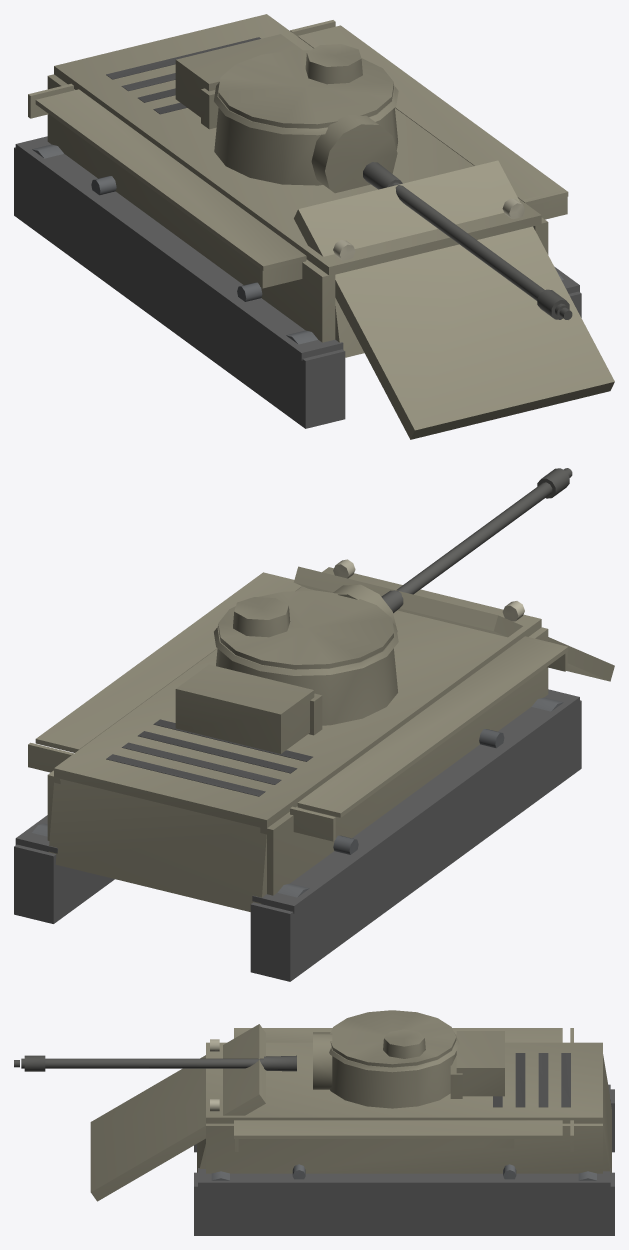
The model's file is centurion.glb.
The picture shows the model from 3 angles, top to bottom: view 1: azimuth 30°, elevation 25°; view 2: azimuth 150°, elevation 25°; view 3: azimuth 270°, elevation 25°; orthographic projection. The views are drawn at different scales.
Parts seen in each view (by area): view 1: glacis, tracks, hullSide, hullTop, turretRoof, turretFront, mantlet, barrel, turretSide, lowerPlate, turretRear; view 2: tracks, hullTop, hullSide, hullRear, turretFront, turretRoof, glacis, barrel, turretSide, mantlet; view 3: tracks, hullSide, hullTop, glacis, turretFront, turretRoof, barrel, mantlet, hullRear, turretSide, turretRear.
Boxes of the visible parts, x1,y1,x2,y2 form: glacis: (294,160,614,439); tracks: (14,136,581,428); hullSide: (28,20,568,342); hullTop: (54,14,541,275); turretRoof: (218,44,393,128); turretFront: (175,34,397,185); mantlet: (311,114,397,193); barrel: (363,162,572,319); turretSide: (214,82,398,135); lowerPlate: (335,298,364,357); turretRear: (201,88,218,129); tracks: (14,689,581,981); hullTop: (54,567,541,828); hullSide: (28,559,568,895); hullRear: (49,779,266,911); turretFront: (175,648,397,753); turretRoof: (218,590,393,669); glacis: (293,566,614,681); barrel: (381,468,572,613); turretSide: (214,622,398,675); mantlet: (333,584,397,631); tracks: (194,1084,614,1235); hullSide: (206,1028,602,1173); hullTop: (206,1042,602,1123); glacis: (90,1024,265,1201); turretFront: (330,1031,504,1108); turretRoof: (330,1010,456,1067); barrel: (14,1055,296,1071); mantlet: (313,1032,332,1089); hullRear: (601,1054,611,1175); turretSide: (329,1033,459,1072); turretRear: (450,1034,462,1098).
Size of the model in its own units: 4.23 by 2.97 by 9.99.
